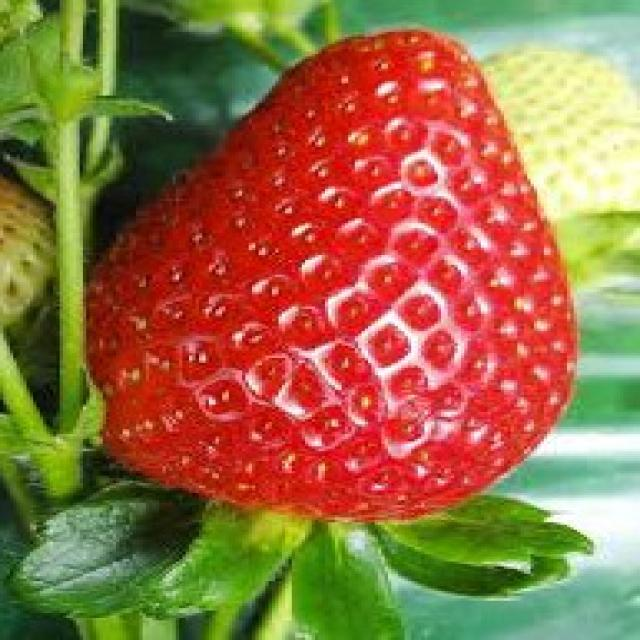mature: (83, 29, 576, 520)
